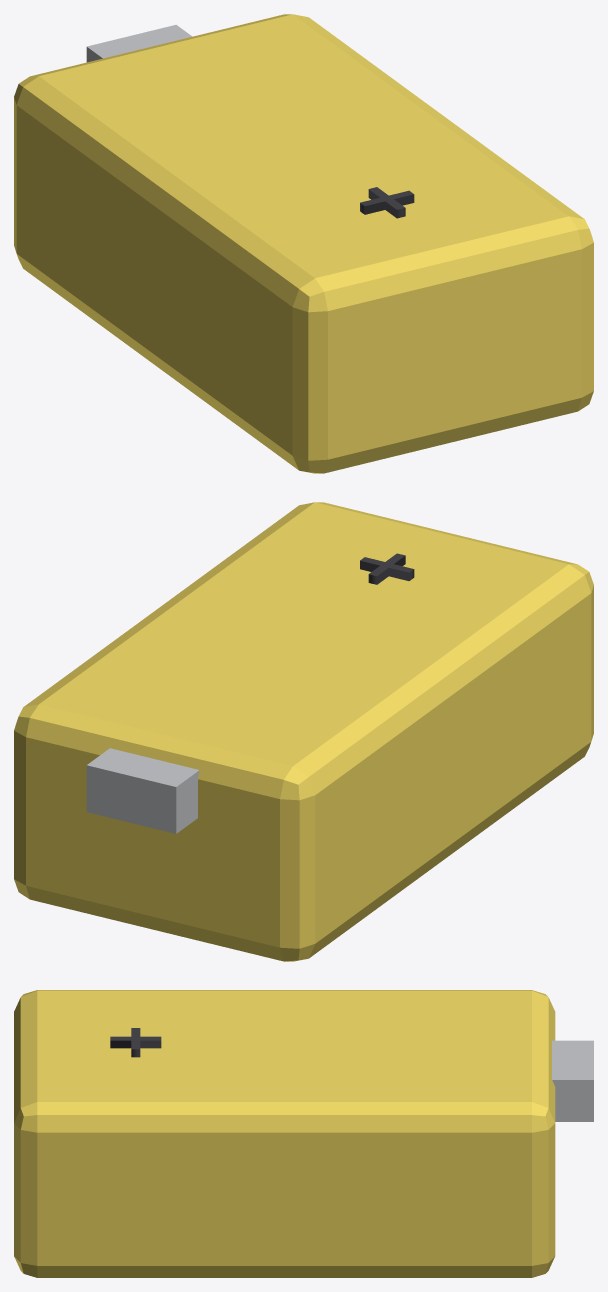
The model's file is part_battery.fbx.
3 views of the same model, one above another, from view 1: azimuth 30°, elevation 25°; view 2: azimuth 150°, elevation 25°; view 3: azimuth 270°, elevation 25° (orthographic). The views are drawn at different scales.
Parts seen in each view (by area): view 1: part_battery; view 2: part_battery; view 3: part_battery.
Boxes of the visible parts, x1,y1,x2,y2 form: part_battery: (14,14,593,473); part_battery: (14,502,593,961); part_battery: (14,990,593,1277).
Size of the model in its own units: 0.04 by 0.0261 by 0.075.
